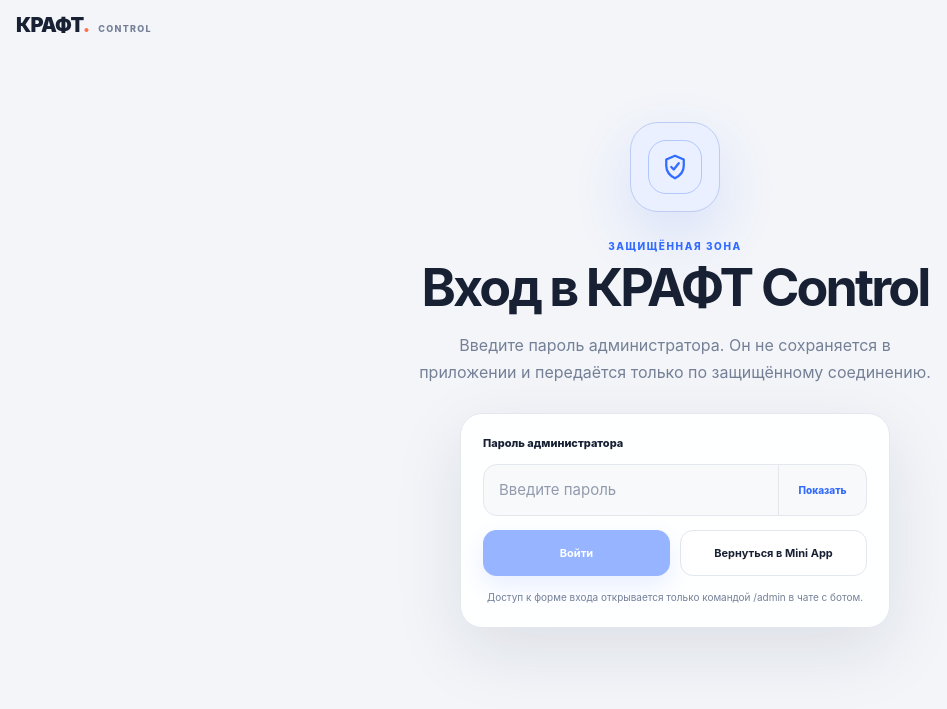
Test: AdminPanel password authentication › shows a password form after a missing session and clears an invalid password
Click the button with aria-label "Показать пароль".
click(822, 490)  # box [778,465,866,515]
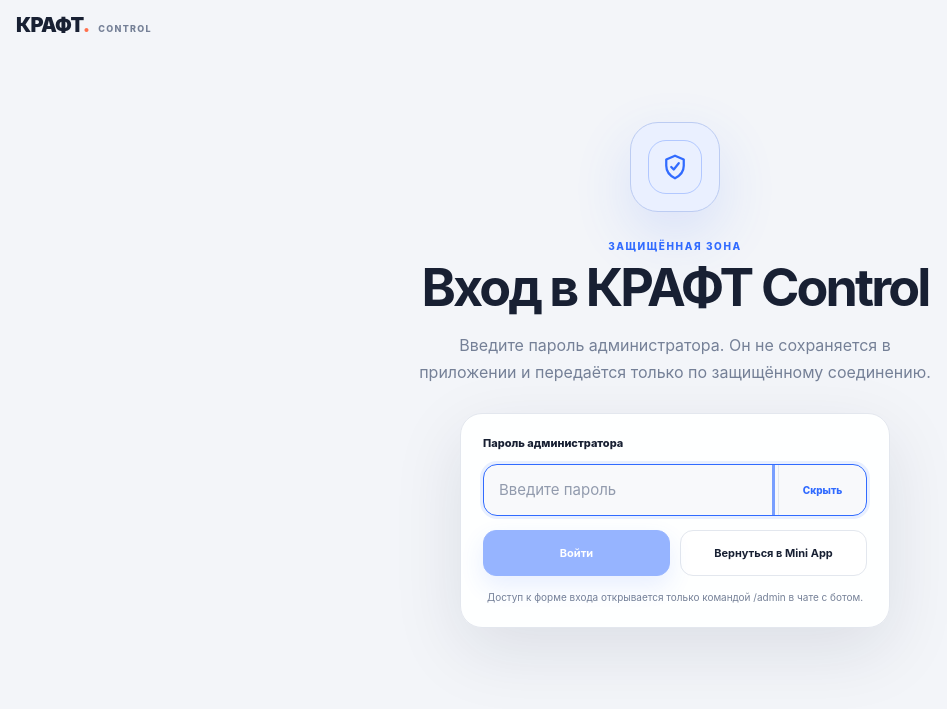
Type "incorrect-password" into the field labelled "Пароль администратора".
click(631, 490); type("incorrect-password")  # box [484,465,778,515]
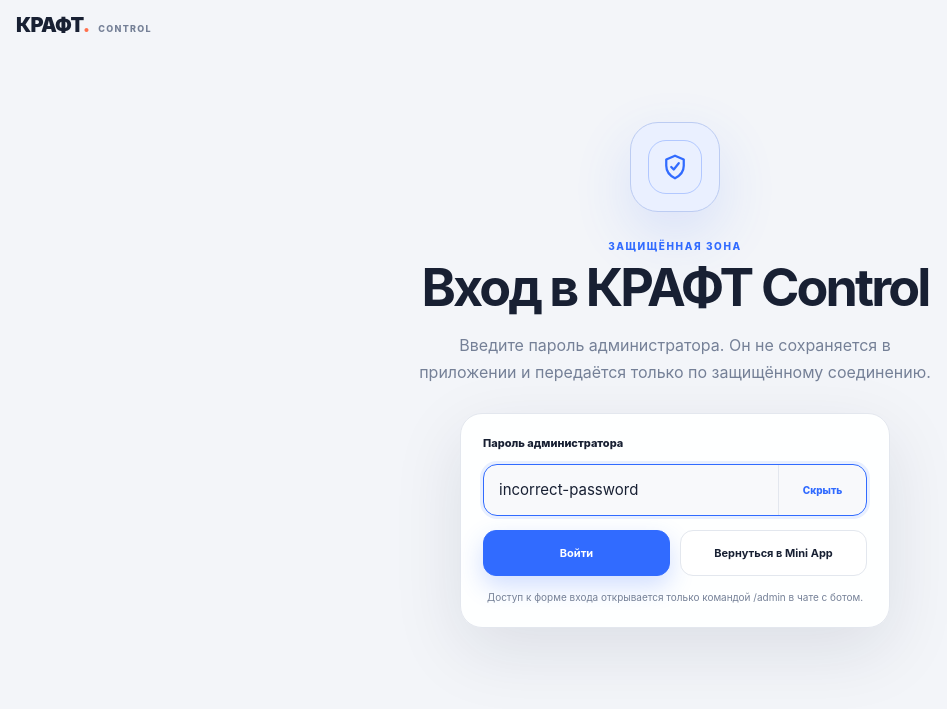
Click the button "Войти".
click(576, 553)  # box [483,530,670,576]
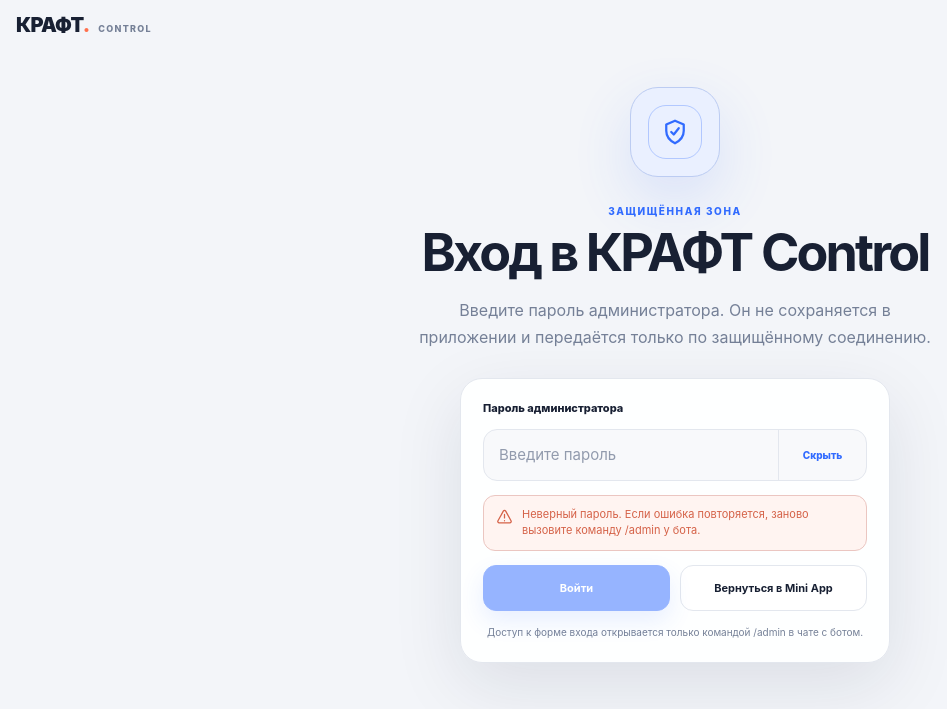
Now the message shows "Неверный пароль", box [522,507,809,537]
Now the field labelled "Пароль администратора" is empty, box [484,430,778,480]
